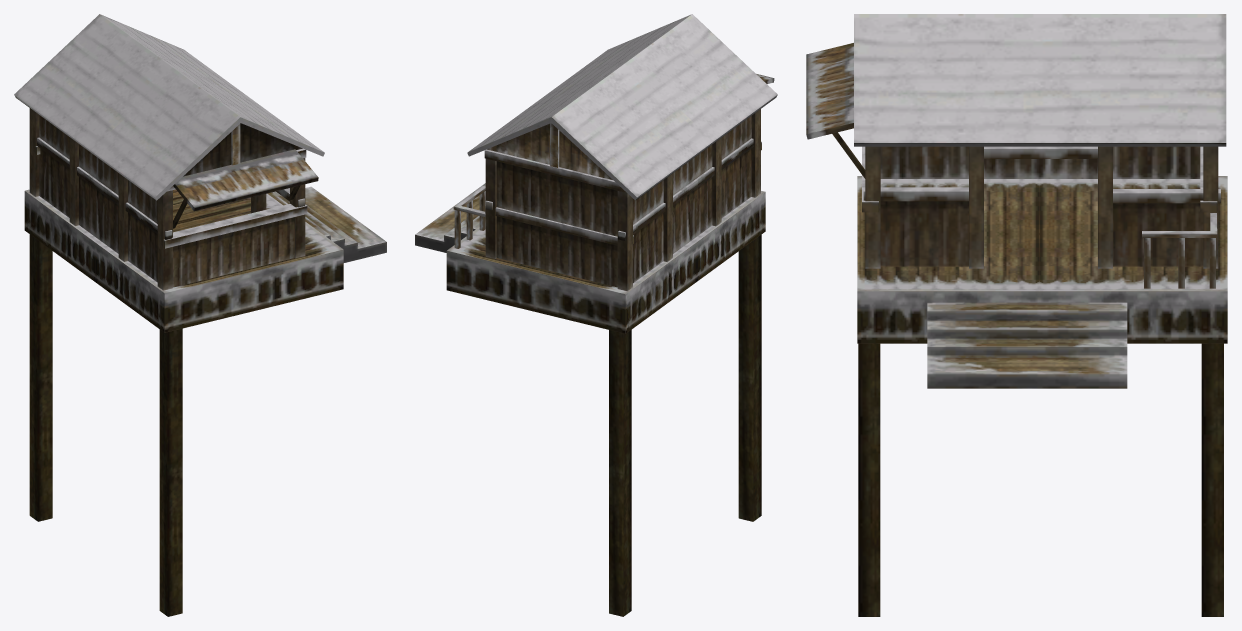
The model's file is nsm-general_obj_01_1.glb.
3 renders of one model, left to right at view 1: azimuth 30°, elevation 25°; view 2: azimuth 150°, elevation 25°; view 3: azimuth 270°, elevation 25°, orthographic. The views are drawn at different scales.
Visible parts, largest first — view 1: Sphere01; view 2: Sphere01; view 3: Sphere01.
Boxes of the visible parts, bbox=[...] form: Sphere01: bbox=[14, 14, 386, 616]; Sphere01: bbox=[415, 14, 777, 616]; Sphere01: bbox=[806, 14, 1227, 616].
Bounding box in the file's own units: 7.93 × 14.11 × 8.43.
2 materials, 2 textured.
